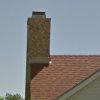Chimney: (21, 5, 56, 64)
